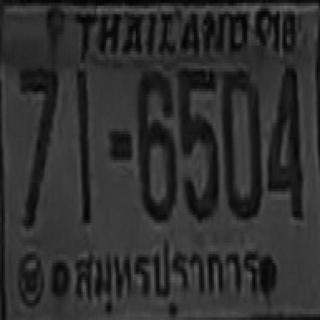N00: (221, 68, 260, 217)
N01: (76, 69, 90, 223)
N04: (266, 64, 302, 216)
N05: (177, 67, 217, 218)
N06: (136, 70, 176, 218)
N07: (19, 66, 57, 226), (19, 66, 57, 203)
P57: (73, 237, 262, 303)
